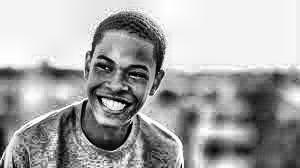happy: (78, 12, 187, 159)
